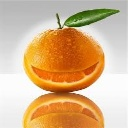orange: (22, 9, 120, 93), (24, 93, 105, 128)
